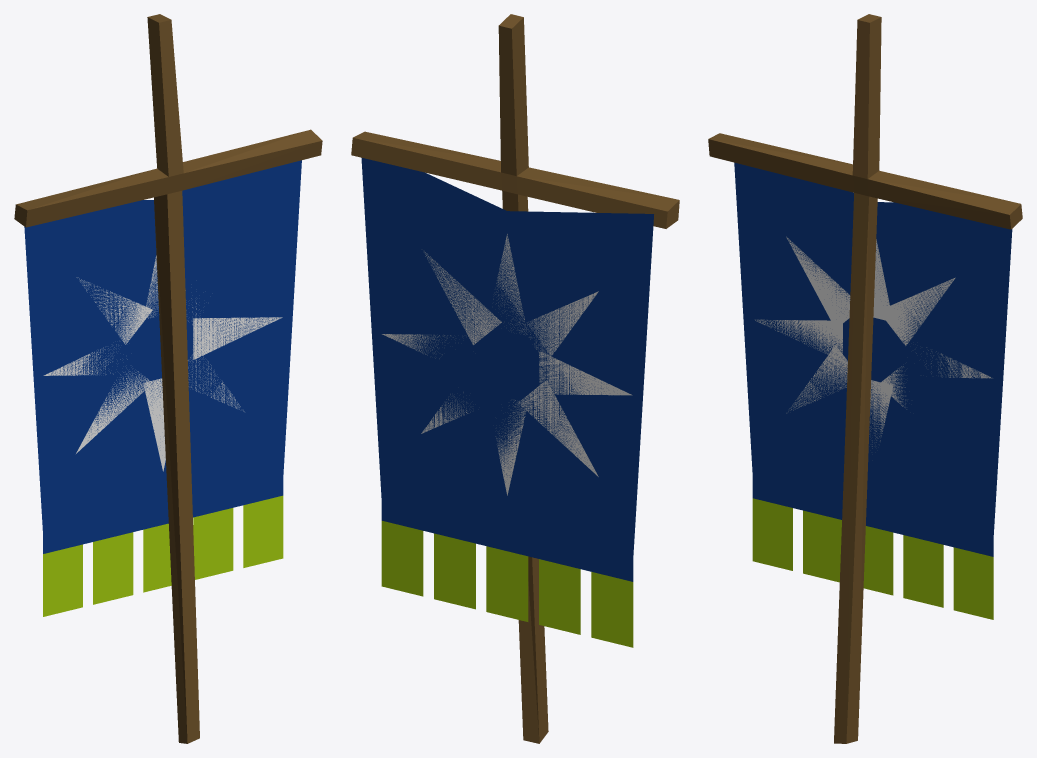
Rendered from obj_standard_8_0.obj.
The picture shows the model from 3 angles, left to right: view 1: azimuth 30°, elevation 25°; view 2: azimuth 150°, elevation 25°; view 3: azimuth 330°, elevation 25°; orthographic projection. The views are drawn at different scales.
Size of the model in its own units: 0.9297 by 2.11 by 0.2031.
